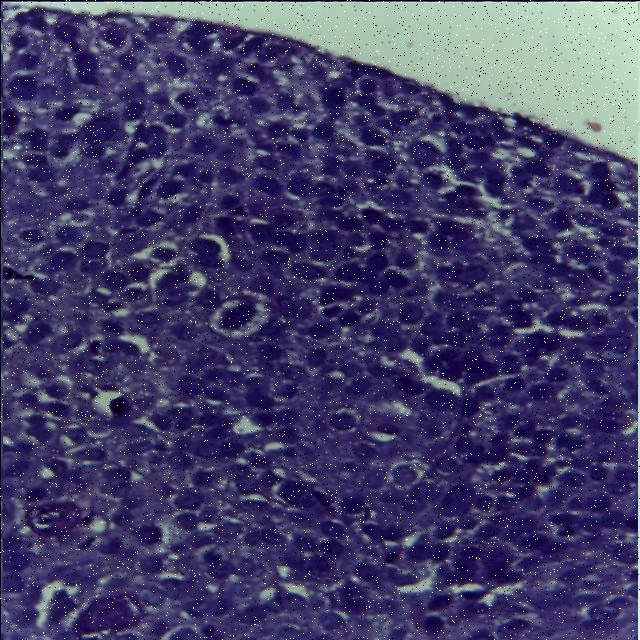Nuclear Hyperchromatism: (2, 2, 637, 638)
